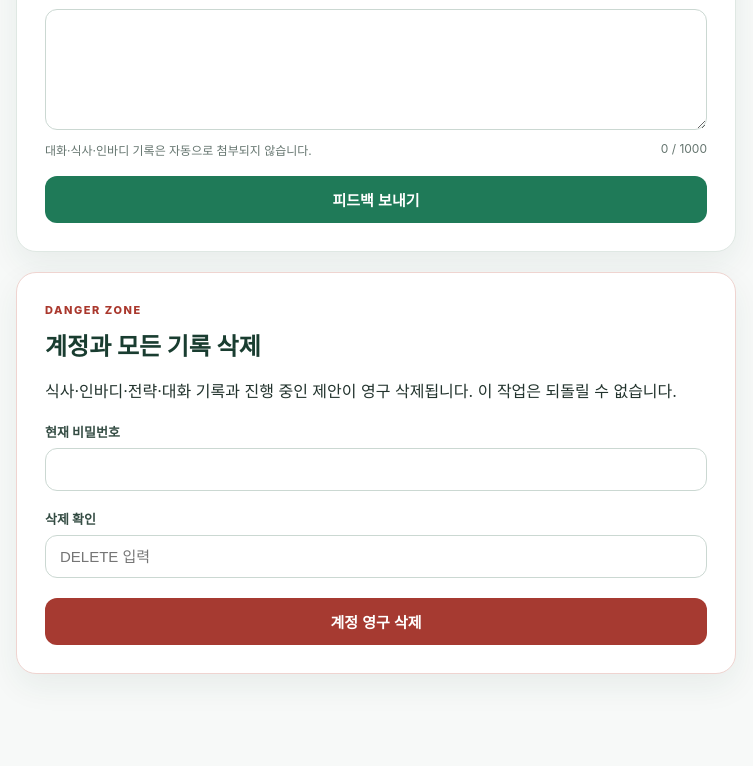
Test: requires password and DELETE before account deletion
(page scrolled)
Click the button "계정 영구 삭제": (376, 622) 45,598 -> 707,645
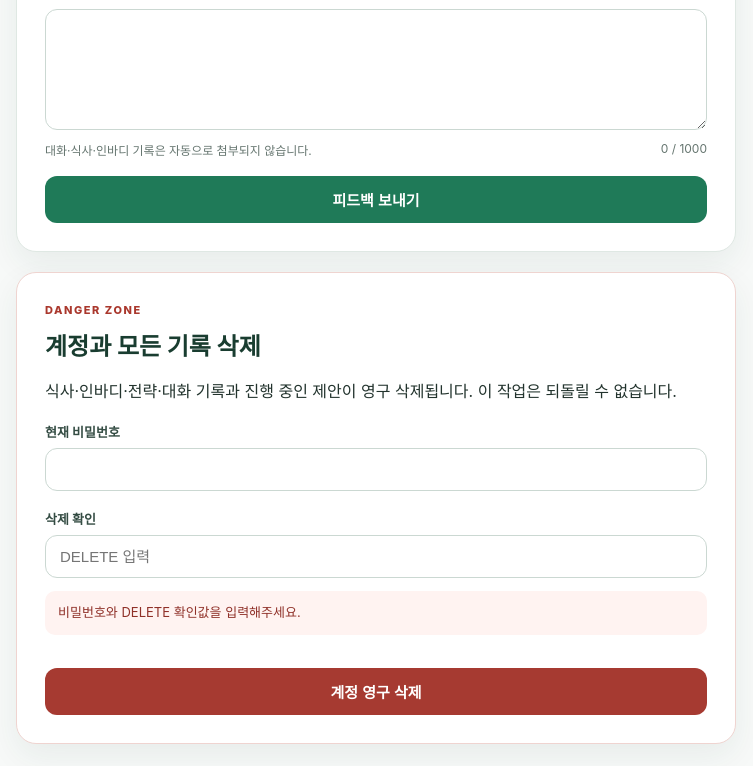
Check: the text "비밀번호와 DELETE 확인값을 입력해주세요." is shown, box 45,591 -> 707,634
